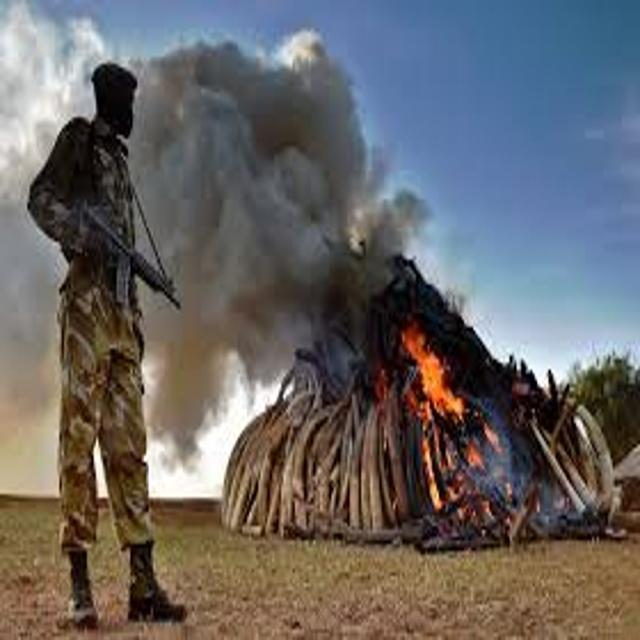gun: (21, 164, 206, 328)
ranger: (8, 48, 236, 637)
